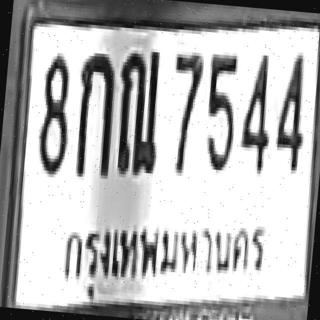A01: (72, 49, 116, 175)
A19: (112, 44, 164, 175)
N04: (238, 51, 276, 171), (272, 51, 309, 171)
N05: (200, 51, 240, 171)
N07: (166, 48, 203, 174)
N08: (34, 52, 73, 172)
P04: (50, 190, 272, 309)
